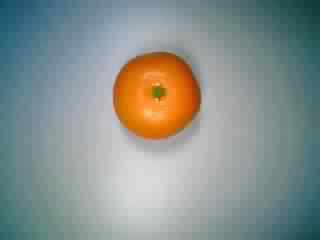orange: (108, 48, 203, 142)
